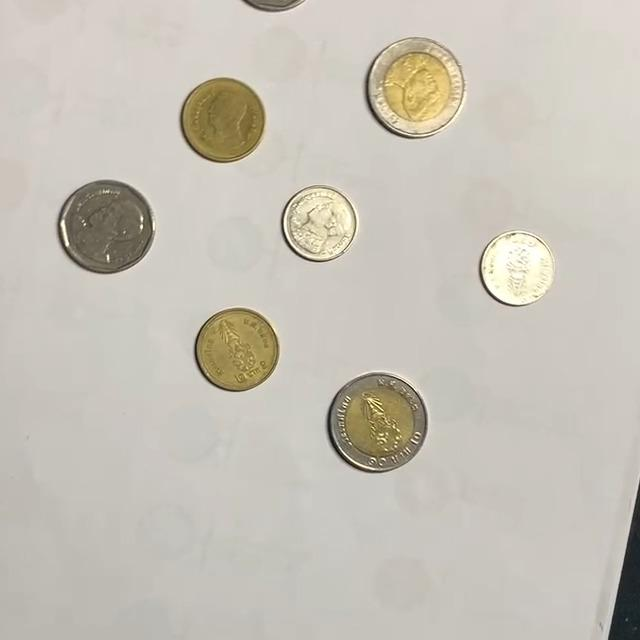1-baht: (281, 185, 359, 263), (479, 230, 558, 307)
10-baht: (329, 372, 430, 472), (367, 37, 467, 137)
2-baht: (181, 77, 267, 163), (194, 307, 279, 391)
5-baht: (58, 179, 157, 274)
